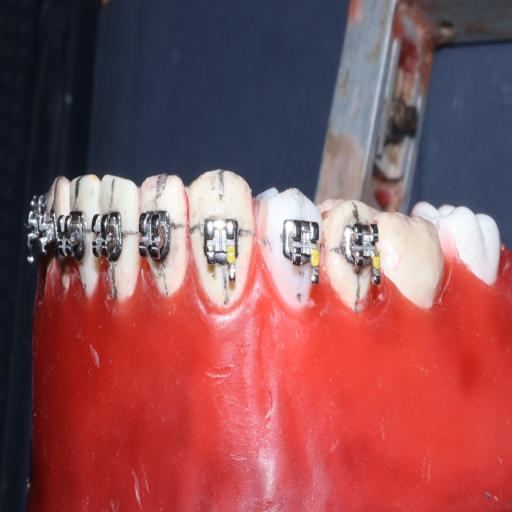correct_brace: (254, 182, 323, 312), (275, 216, 322, 286)
incorrect_brace: (200, 207, 243, 285)
